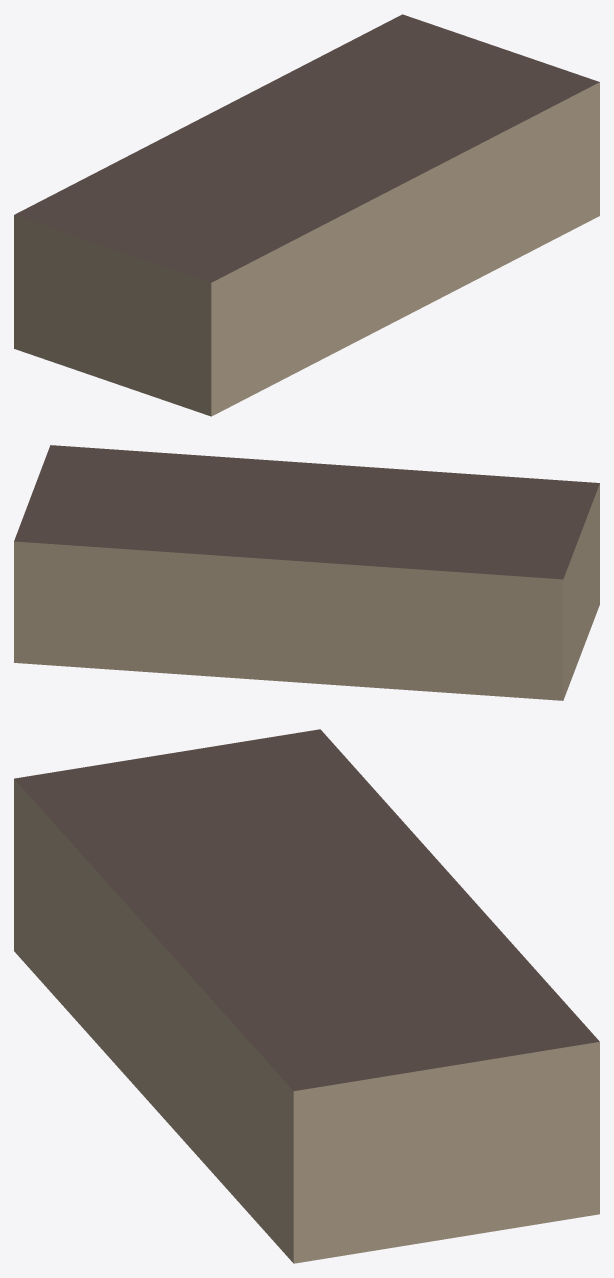
3 renders of one model, top to bottom at view 1: azimuth 30°, elevation 25°; view 2: azimuth 150°, elevation 25°; view 3: azimuth 270°, elevation 25°, orthographic. The views are drawn at different scales.
Visible parts, largest first — view 1: HP-w859078954; view 2: HP-w859078954; view 3: HP-w859078954.
Boxes of the visible parts, x1,y1,x2,y2 form: HP-w859078954: (14,14,599,416); HP-w859078954: (14,445,599,700); HP-w859078954: (14,729,599,1263).
Size of the model in its own units: 40.51 by 9 by 27.71.
